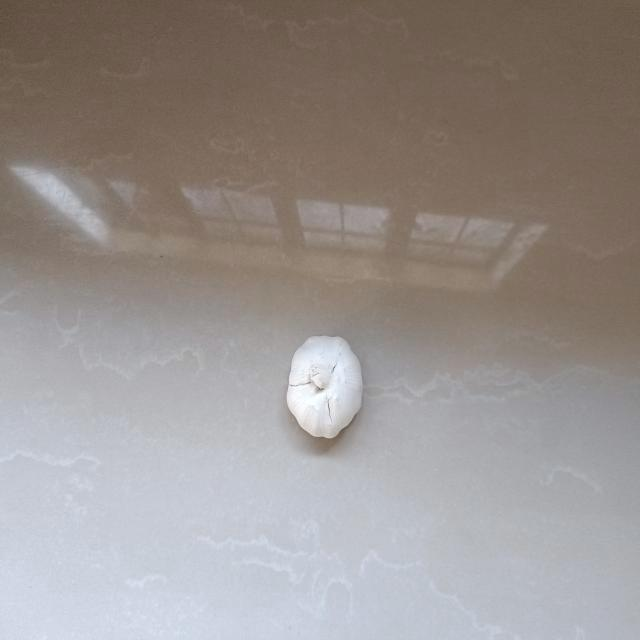garlic: (283, 326, 368, 447)
